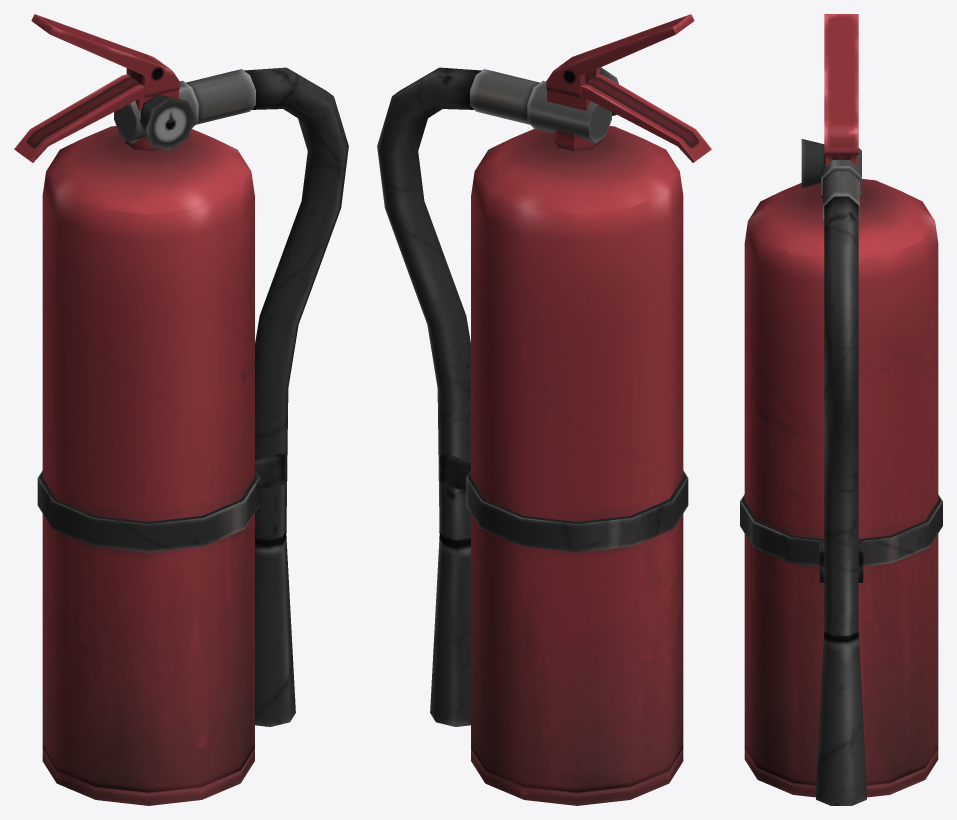
File: fireExtinguisher.fbx
3 views of the same model, side by side, from view 1: azimuth 30°, elevation 25°; view 2: azimuth 150°, elevation 25°; view 3: azimuth 270°, elevation 25° (orthographic). The views are drawn at different scales.
Visible parts, largest first — view 1: fireExtinguisher; view 2: fireExtinguisher; view 3: fireExtinguisher.
Boxes of the visible parts, x1,y1,x2,y2 form: fireExtinguisher: [14, 14, 348, 805]; fireExtinguisher: [377, 14, 711, 805]; fireExtinguisher: [740, 14, 942, 805].
Size of the model in its own units: 29.1 by 66.06 by 17.38.
